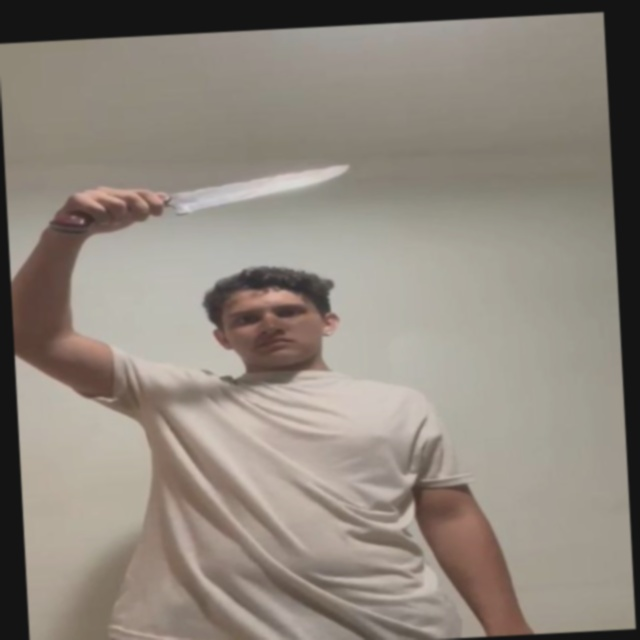Sharp-Object: (174, 164, 353, 213)
